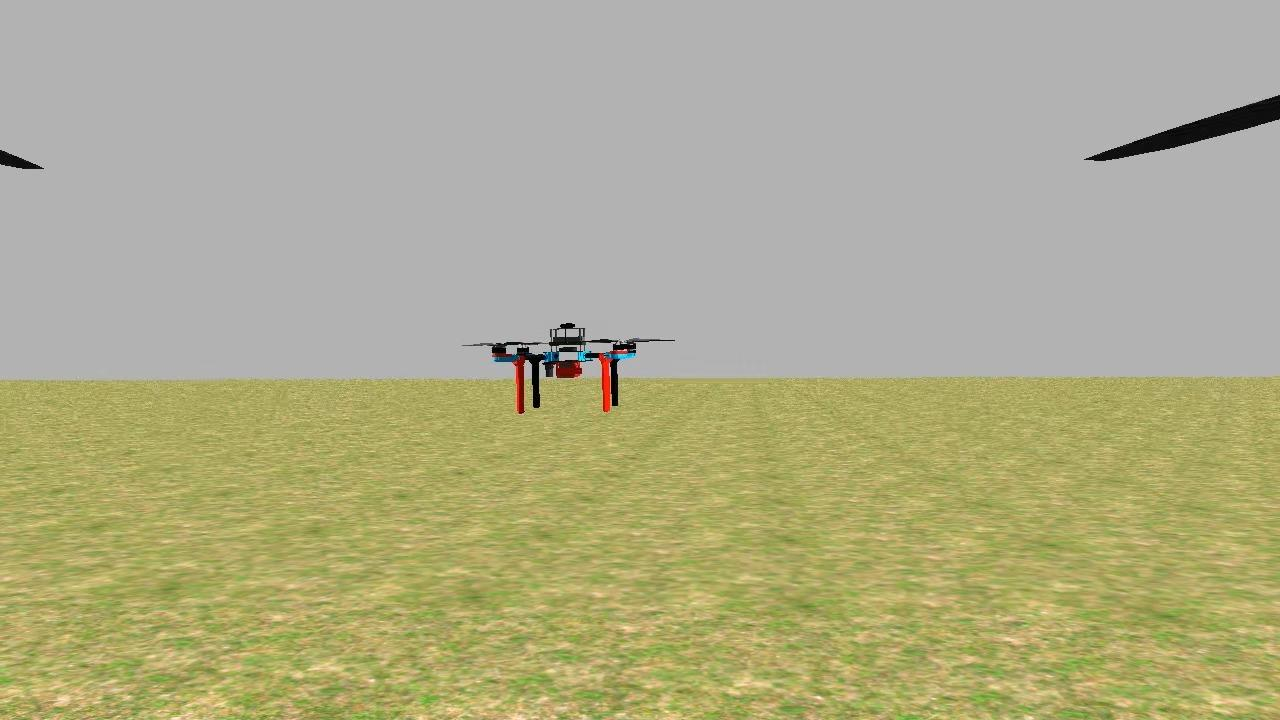UAV: (480, 305, 648, 420)
